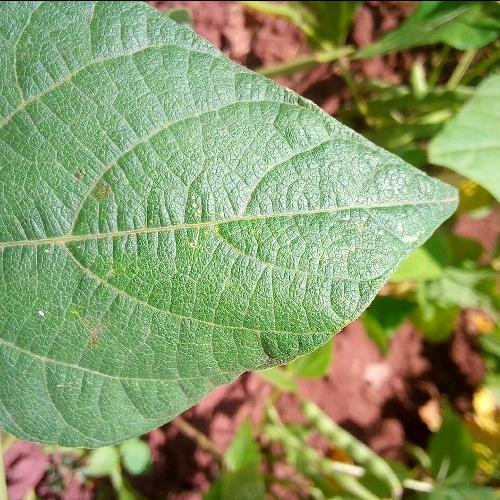sehat: (5, 0, 461, 447)
